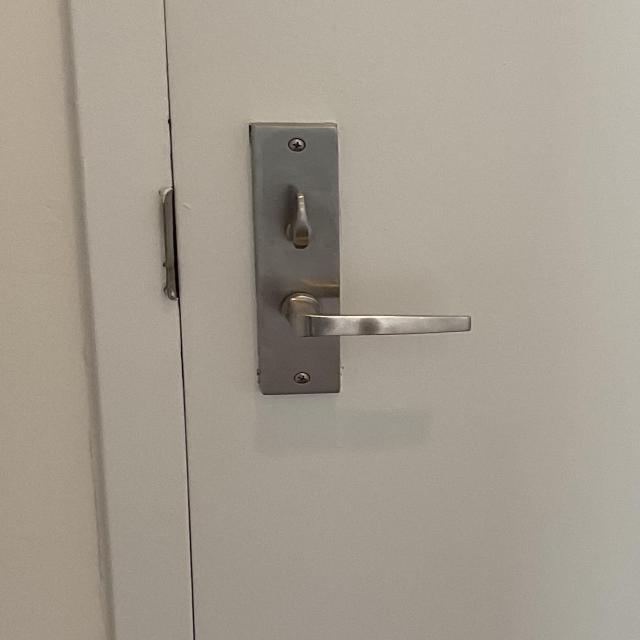door_handle: (257, 283, 487, 351)
